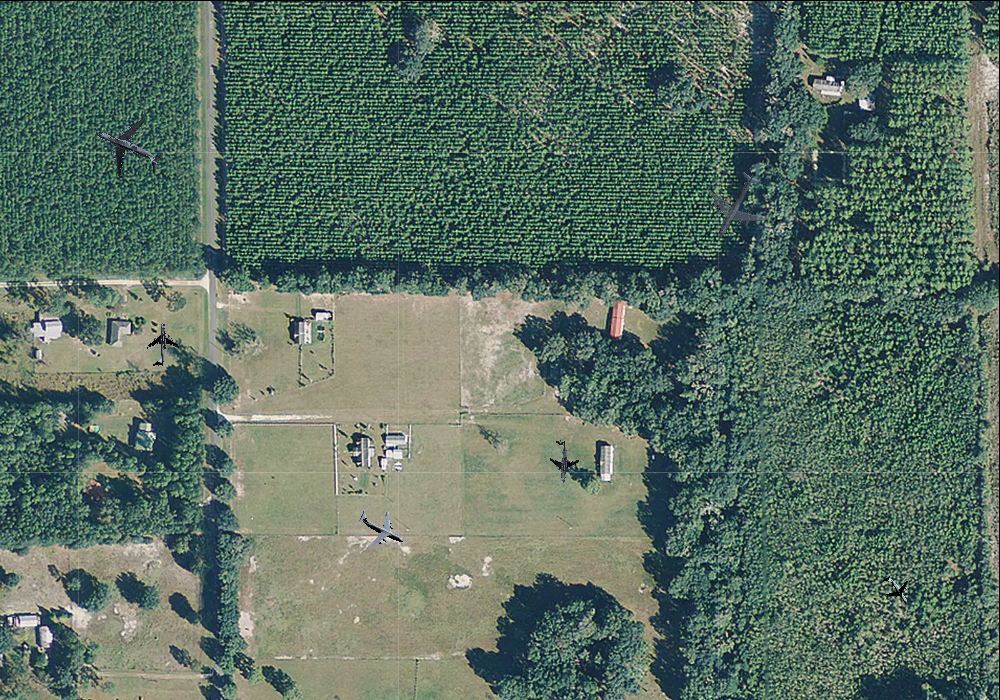plane: (689, 158, 782, 254), (81, 102, 174, 193), (348, 496, 413, 560), (875, 568, 918, 612), (542, 439, 582, 484), (141, 322, 180, 366)
